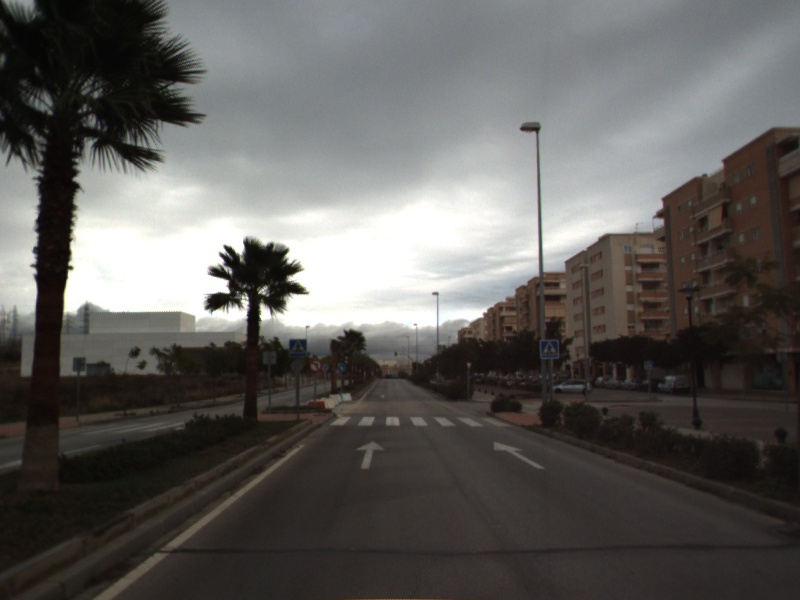STRAIGHT: (492, 440, 546, 470), (354, 439, 387, 471)
